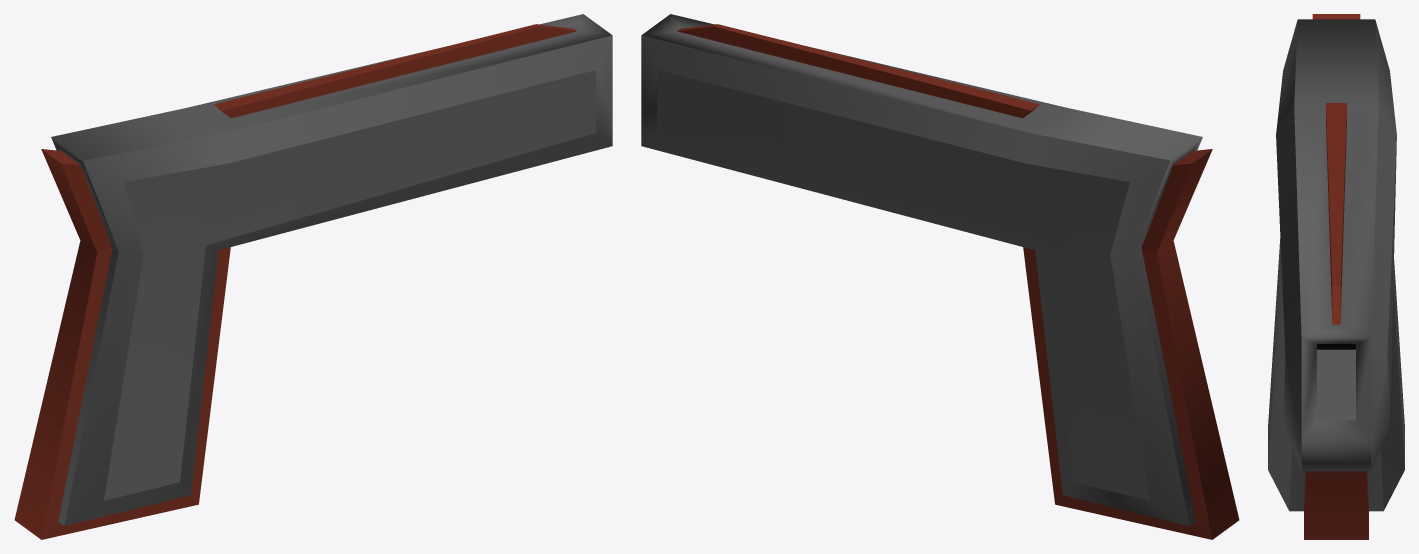
File: mdl_Gun.fbx
3 renders of one model, left to right at view 1: azimuth 30°, elevation 25°; view 2: azimuth 150°, elevation 25°; view 3: azimuth 270°, elevation 25°, orthographic. The views are drawn at different scales.
Parts seen in each view (by area): view 1: Box002; view 2: Box002; view 3: Box002.
Part boxes in pixels (<box>): Box002: <box>14,14,612,539</box>; Box002: <box>641,14,1239,539</box>; Box002: <box>1268,14,1404,539</box>.
Bounding box in the file's own units: 11.99 × 7.7 × 2.07.
